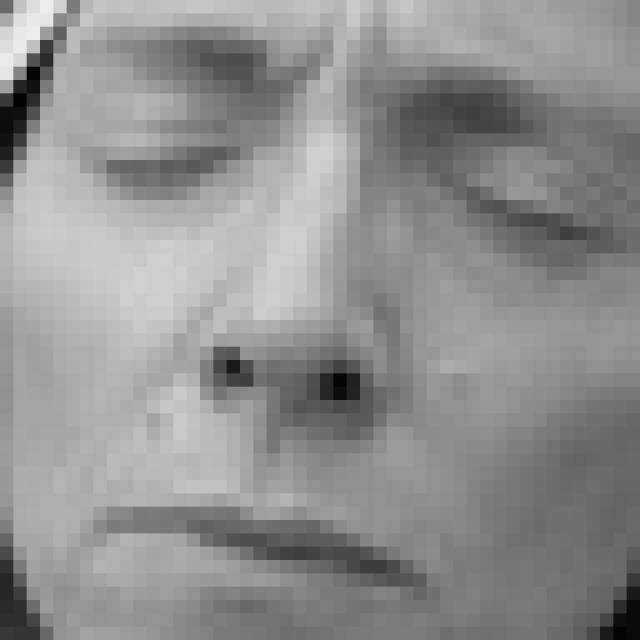sad: (60, 1, 640, 640)
